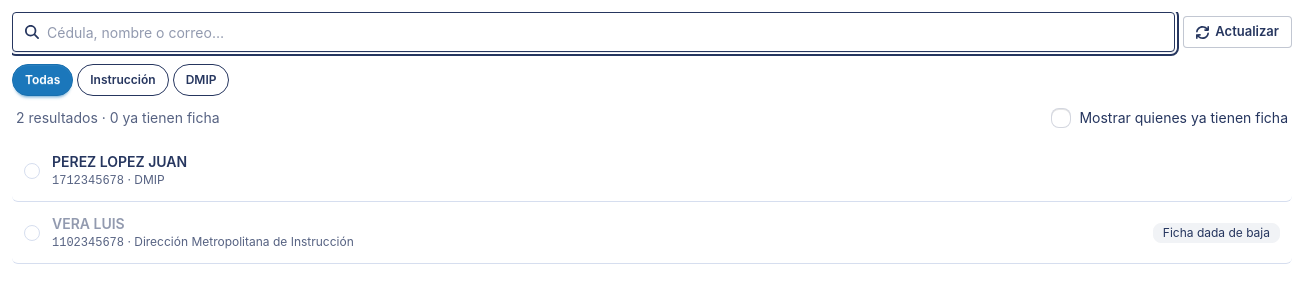
Test case: PasoBuscarPersona · elegir del directorio (rediseño 2026-10-08) › los chips de dependencia filtran, con el rótulo corto
The width and height of the screenshot is (1304, 281).
Expected: the element named "Filtrar por dependencia" shows "Todas", [12,64,73,96]
Click the button "Instrucción". click: (123, 80)
box: [77,64,169,96]
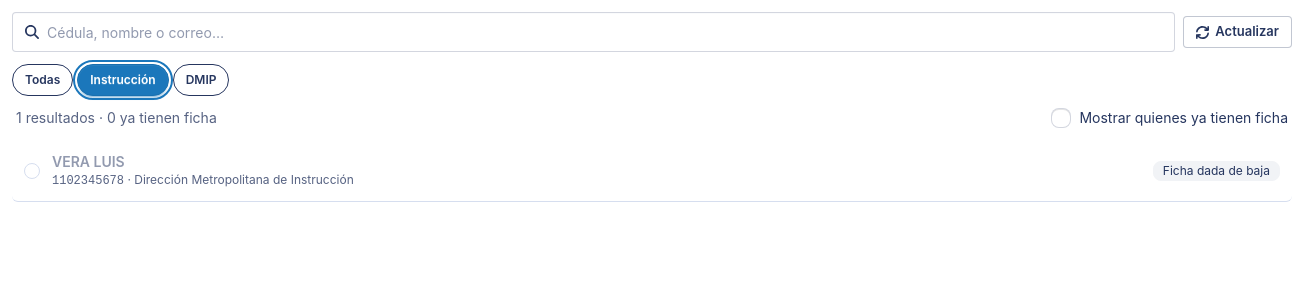
Expected: the text "VERA LUIS" is shown, [52,153,125,170]
Result: the button "PEREZ LOPEZ JUAN" is gone
